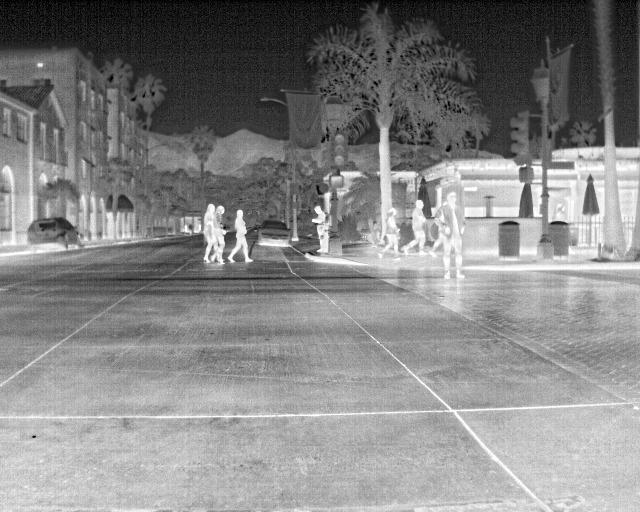bicycle: (20, 218, 84, 253), (253, 219, 295, 249)
empty: (432, 189, 468, 280), (400, 200, 432, 253), (226, 206, 250, 261), (200, 201, 219, 266), (378, 207, 401, 259), (309, 204, 332, 253), (216, 203, 230, 266)
